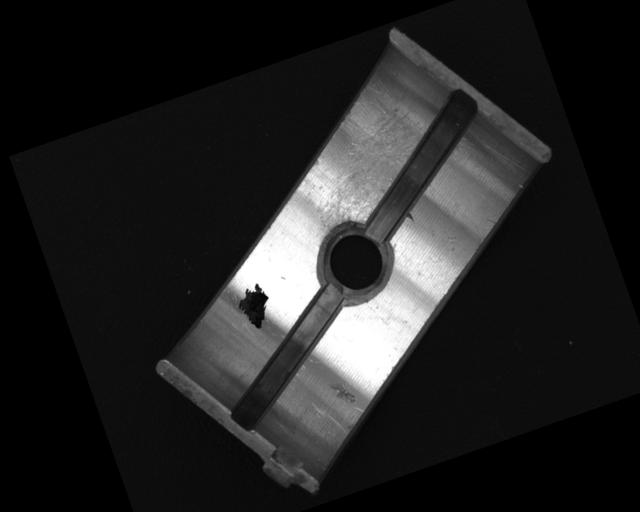blot: (231, 280, 278, 334)
bruise: (325, 375, 358, 410), (404, 210, 416, 224)
gap: (331, 87, 508, 246), (202, 285, 370, 432)
hole: (308, 217, 400, 307)
scratch: (281, 85, 448, 244)
